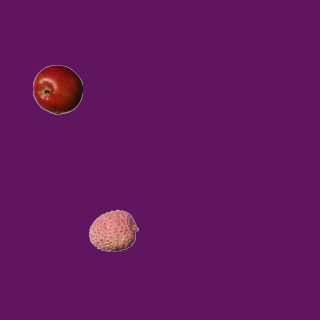Apple Braeburn: (32, 64, 82, 114)
Lychee: (88, 205, 138, 255)
